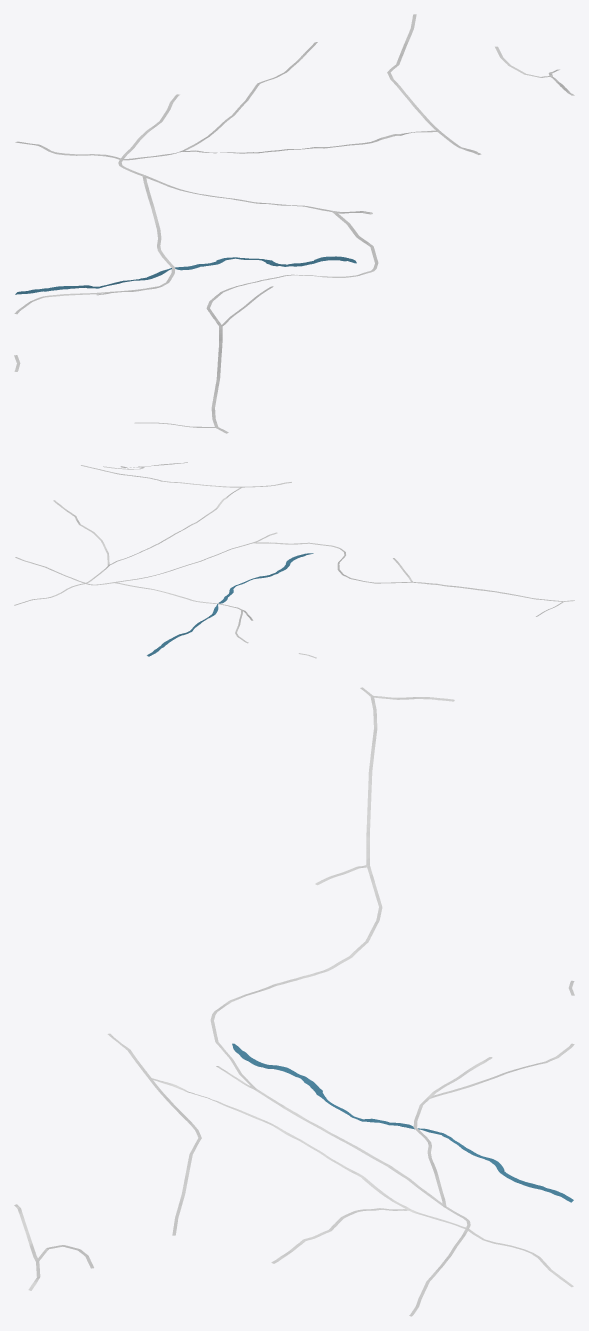
File: objekty.glb
The picture shows the model from 3 angles, top to bottom: view 1: azimuth 90°, elevation 25°; view 2: azimuth 150°, elevation 25°; view 3: azimuth 270°, elevation 25°; orthographic projection. The views are drawn at different scales.
Visible parts, largest first — view 1: Cesty_09_00, Voda_09_00; view 2: Cesty_09_00, Voda_09_00; view 3: Cesty_09_00, Voda_09_00.
Boxes of the visible parts, box(x1,y1,x2,y2) form: Cesty_09_00: box(14, 14, 574, 433); Voda_09_00: box(15, 256, 356, 294); Cesty_09_00: box(14, 462, 574, 658); Voda_09_00: box(147, 553, 313, 656); Cesty_09_00: box(14, 687, 574, 1316); Voda_09_00: box(232, 1043, 573, 1202).
Bounding box in the file's own units: 1001 × 180 × 490.
